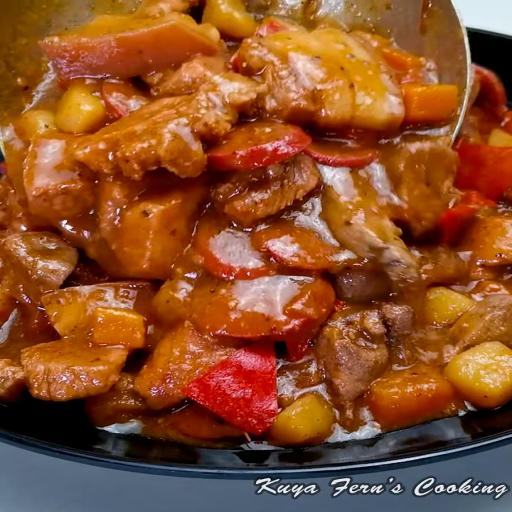pork caldereta: (0, 13, 512, 437)
